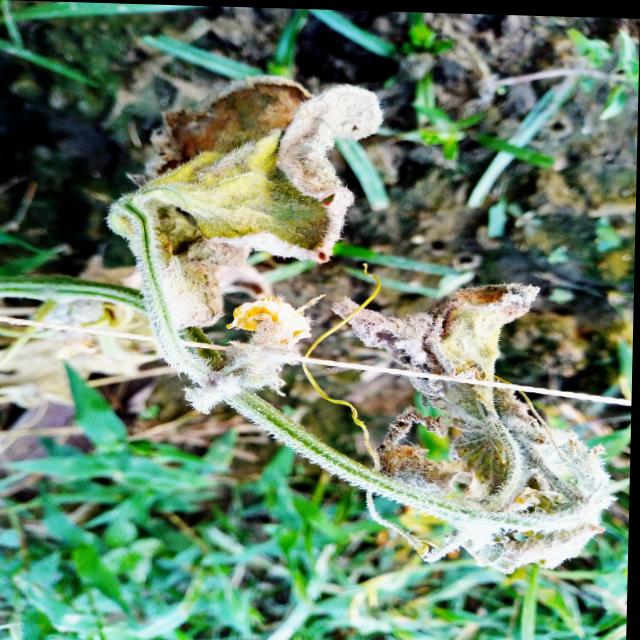Bacterial-Wilt: (100, 71, 388, 330)
